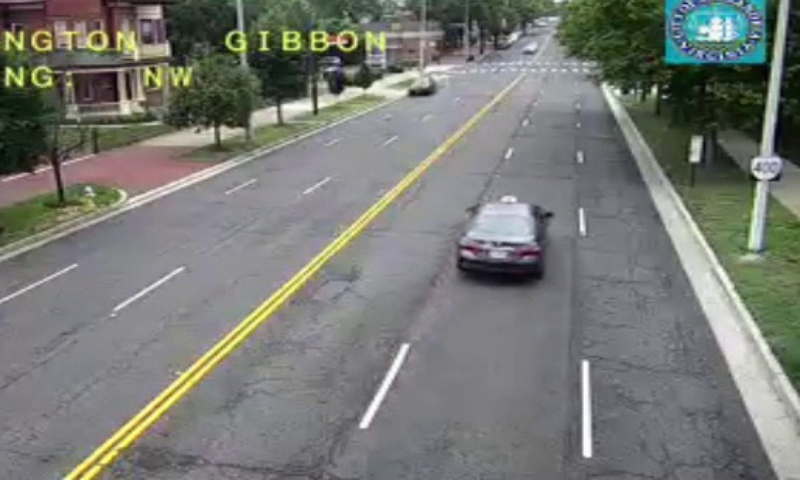car: (456, 201, 543, 275)
